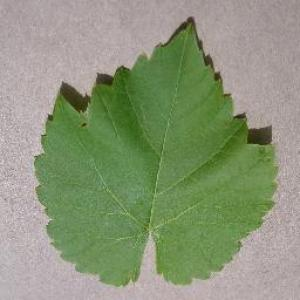Folha: (33, 20, 279, 286)
